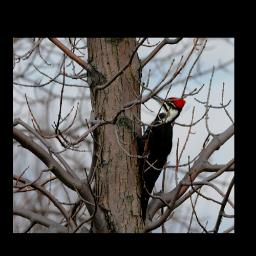Woodpecker: (135, 93, 186, 228)
